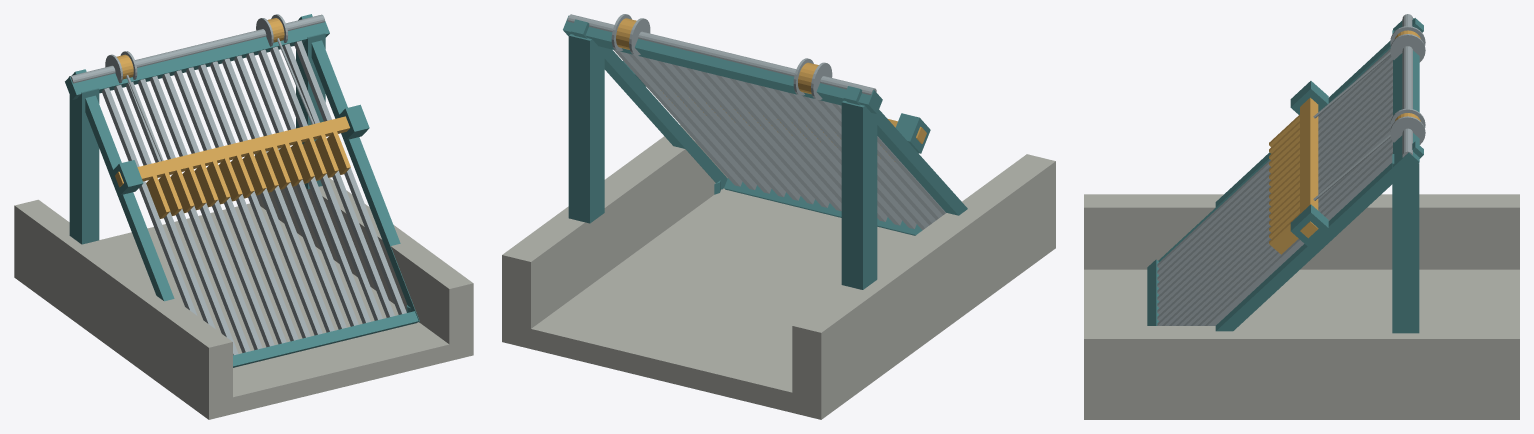
3 renders of one model, left to right at view 1: azimuth 30°, elevation 25°; view 2: azimuth 150°, elevation 25°; view 3: azimuth 270°, elevation 25°, orthographic. The views are drawn at different scales.
Parts seen in each view (by area): view 1: WholeOpenEndedUChannel, WholeRaisedSixteenToothComb, WholeRearGuideSupportLeft, WholeCarriageGuideRight, WholeUpperRackCrossrail, WholeCarriageGuideLeft, WholeLowerRackCrossrail, WholeInclinedScreenBar11, WholeInclinedScreenBar04, WholeInclinedScreenBar12, WholeInclinedScreenBar13, WholeInclinedScreenBar10 (+16 smaller); view 2: WholeOpenEndedUChannel, WholeRearGuideSupportRight, WholeRearGuideSupportLeft, WholeUpperRackCrossrail, WholeCarriageGuideRight, WholeCarriageGuideLeft, WholeUpperCrossShaft, WholeInclinedScreenBar11, WholeInclinedScreenBar10, WholeInclinedScreenBar13, WholeInclinedScreenBar12, WholeInclinedScreenBar15 (+13 smaller); view 3: WholeOpenEndedUChannel, WholeRaisedSixteenToothComb, WholeRearGuideSupportRight, WholeCarriageGuideRight, WholeInclinedScreenBar16, WholeUpperRackCrossrail, WholeInclinedScreenBar04, WholeInclinedScreenBar06, WholeInclinedScreenBar02, WholeInclinedScreenBar07, WholeInclinedScreenBar08, WholeInclinedScreenBar09 (+17 smaller).
Part boxes in pixels (box(x1,y1,x2,y2)): WholeOpenEndedUChannel: box(14, 148, 473, 419); WholeRaisedSixteenToothComb: box(115, 116, 350, 218); WholeRearGuideSupportLeft: box(69, 88, 99, 244); WholeCarriageGuideRight: box(298, 14, 419, 322); WholeUpperRackCrossrail: box(65, 21, 329, 99); WholeCarriageGuideLeft: box(72, 69, 174, 301); WholeLowerRackCrossrail: box(233, 311, 418, 367); WholeInclinedScreenBar11: box(234, 55, 346, 329); WholeInclinedScreenBar04: box(150, 76, 262, 350); WholeInclinedScreenBar12: box(246, 52, 358, 326); WholeInclinedScreenBar13: box(258, 49, 370, 323); WholeInclinedScreenBar10: box(222, 58, 334, 332); WholeOpenEndedUChannel: box(502, 124, 1055, 419); WholeRearGuideSupportRight: box(568, 34, 604, 223); WholeRearGuideSupportLeft: box(841, 100, 877, 289); WholeUpperRackCrossrail: box(563, 15, 882, 113); WholeCarriageGuideRight: box(570, 19, 727, 189); WholeCarriageGuideLeft: box(843, 86, 967, 215); WholeUpperCrossShaft: box(567, 14, 876, 95); WholeInclinedScreenBar11: box(686, 67, 814, 204); WholeInclinedScreenBar10: box(701, 71, 829, 207); WholeInclinedScreenBar13: box(657, 60, 785, 197); WholeInclinedScreenBar12: box(672, 64, 800, 200); WholeInclinedScreenBar15: box(628, 53, 756, 190); WholeOpenEndedUChannel: box(1084, 194, 1519, 419); WholeRaisedSixteenToothComb: box(1269, 97, 1318, 254); WholeRearGuideSupportRight: box(1392, 154, 1419, 333); WholeCarriageGuideRight: box(1215, 141, 1423, 331); WholeInclinedScreenBar16: box(1204, 152, 1392, 325); WholeUpperRackCrossrail: box(1393, 18, 1419, 176); WholeInclinedScreenBar04: box(1157, 73, 1392, 294); WholeInclinedScreenBar06: box(1157, 86, 1392, 307); WholeInclinedScreenBar02: box(1157, 60, 1392, 281); WholeInclinedScreenBar07: box(1157, 92, 1392, 314); WholeInclinedScreenBar08: box(1157, 99, 1392, 320); WholeInclinedScreenBar09: box(1157, 106, 1392, 325).
Bounding box in the file's own units: 3.3 × 2.93 × 4.2.
